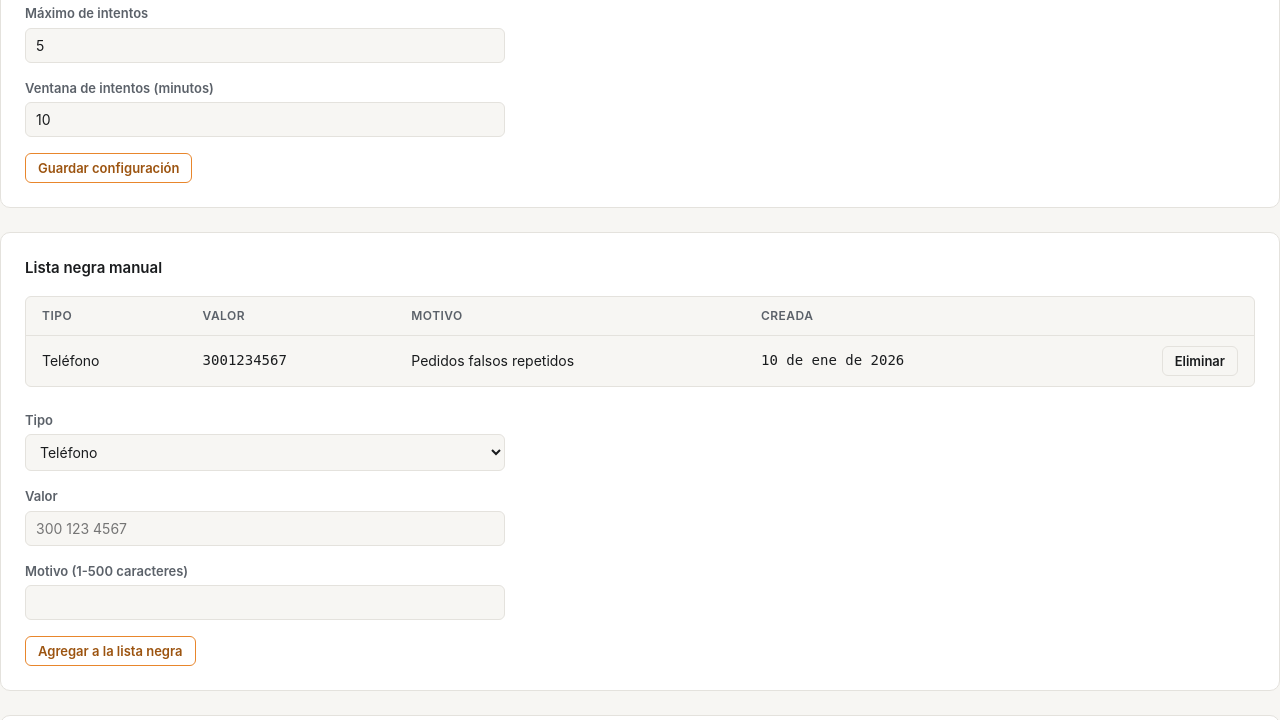
Test case: FraudPage › requires confirmation before removing a blacklist entry, and says history is preserved
(page scrolled)
Expected: the text "3001234567" is shown, [187,335,395,386]
What coordinates should you click on to do the following:
click the button "Eliminar"
I would click on:
 (1200, 361)
Its box is [1162,346,1238,376].
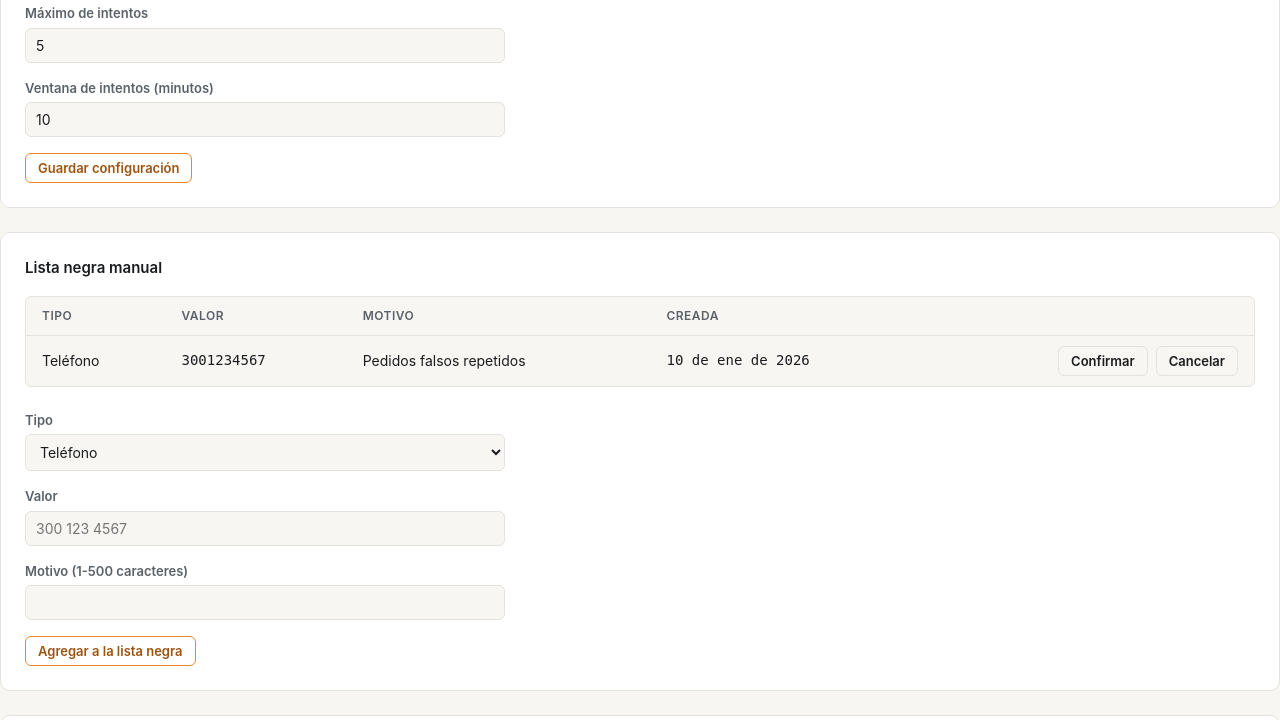
What coordinates should you click on to do the following:
click the button "Confirmar"
I would click on:
 (1103, 361)
Its box is [1058,346,1148,376].
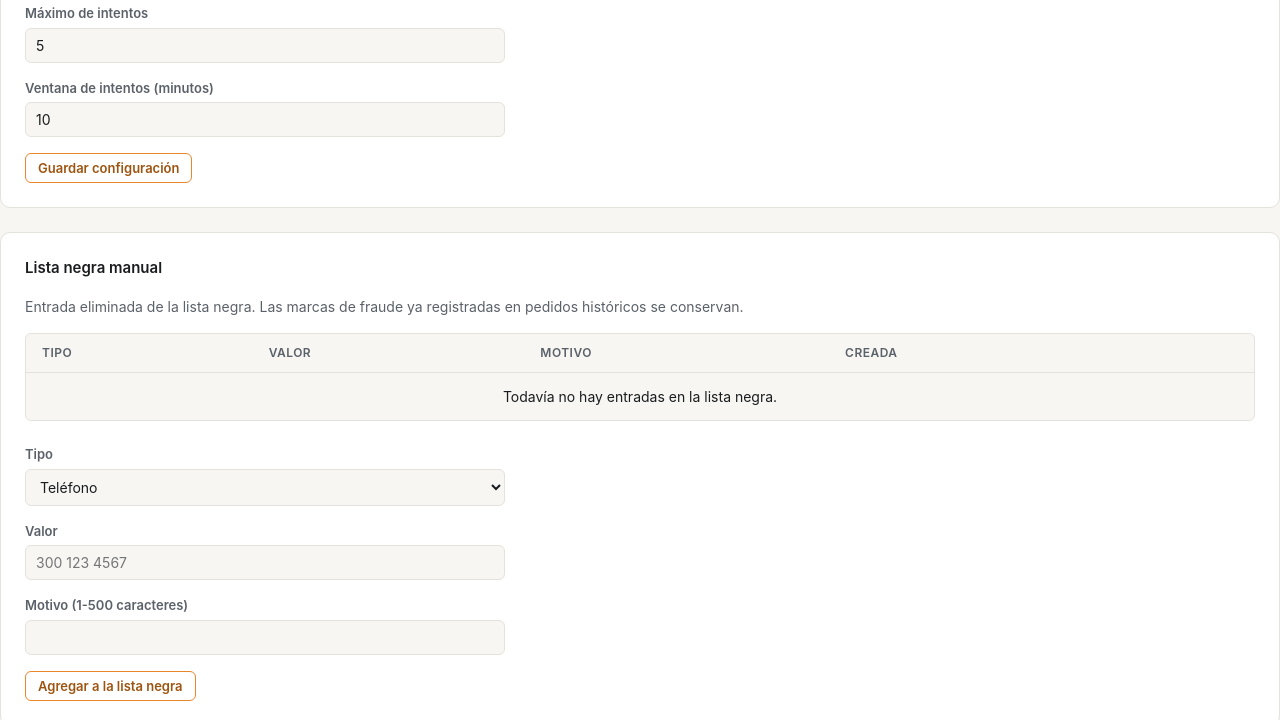
Expected: the text "se conservan" is shown, [25,298,744,315]
